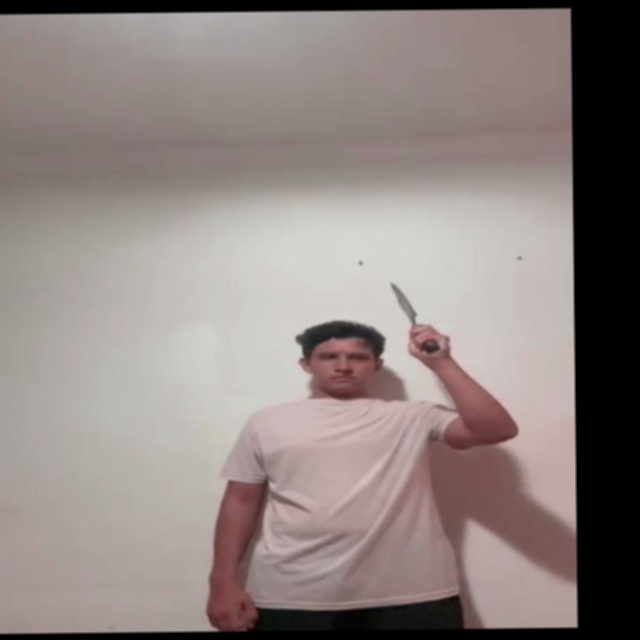Sharp-Object: (391, 283, 416, 319)
